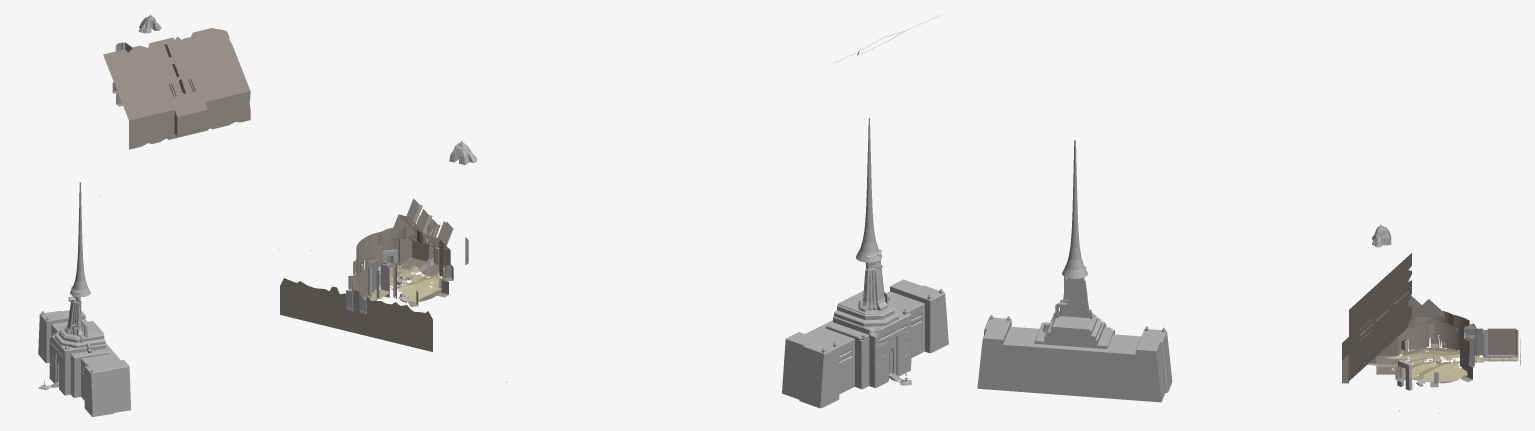
The model's file is BstBaked.glb.
3 views of the same model, side by side, from view 1: azimuth 30°, elevation 25°; view 2: azimuth 150°, elevation 25°; view 3: azimuth 270°, elevation 25° (orthographic). The views are drawn at different scales.
Visible parts, largest first — view 1: BstBaked_terrain, BstBaked_DuskFinalTempleCheap_01, BstBaked_GodLightTemple, BstBaked_LevelGatesStorm_01; view 2: BstBaked_DuskFinalTempleCheap_01, BstBaked_terrain, BstBaked_GodLightTemple; view 3: BstBaked_DuskFinalTempleCheap_01, BstBaked_terrain, BstBaked_GodLightTemple.
Part boxes in pixels (<box>): BstBaked_terrain: <box>103,28,250,149</box>; BstBaked_DuskFinalTempleCheap_01: <box>38,286,130,416</box>; BstBaked_GodLightTemple: <box>70,182,90,296</box>; BstBaked_LevelGatesStorm_01: <box>139,14,161,33</box>; BstBaked_DuskFinalTempleCheap_01: <box>782,249,948,408</box>; BstBaked_terrain: <box>280,198,468,351</box>; BstBaked_GodLightTemple: <box>856,118,882,262</box>; BstBaked_DuskFinalTempleCheap_01: <box>977,265,1172,402</box>; BstBaked_terrain: <box>1342,253,1520,387</box>; BstBaked_GodLightTemple: <box>1062,140,1087,278</box>.
Size of the model in its own units: 602 by 483 by 636.
